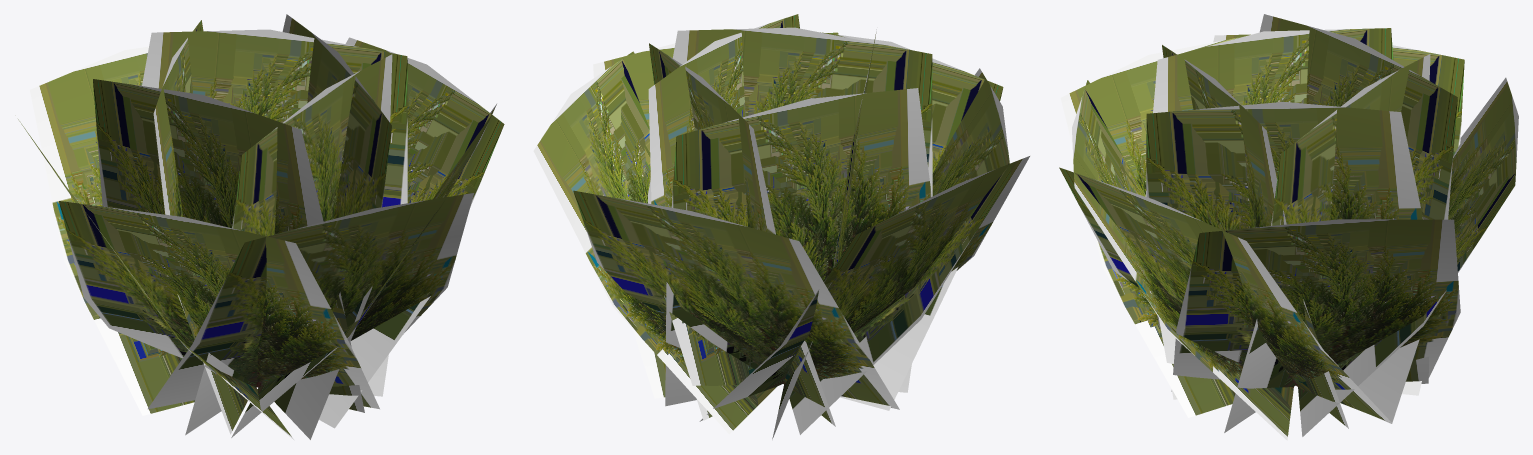
Rendered from arbusto_001.FBX.
3 renders of one model, left to right at view 1: azimuth 30°, elevation 25°; view 2: azimuth 150°, elevation 25°; view 3: azimuth 270°, elevation 25°, orthographic.
Parts seen in each view (by area): view 1: Prop_Arbusto_1; view 2: Prop_Arbusto_1; view 3: Prop_Arbusto_1.
Part boxes in pixels (x1,y1,x2,y2): Prop_Arbusto_1: (18, 14, 504, 440); Prop_Arbusto_1: (533, 14, 1029, 439); Prop_Arbusto_1: (1059, 14, 1518, 440).
Bounding box in the file's own units: 0.2357 × 0.1709 × 0.2195.
